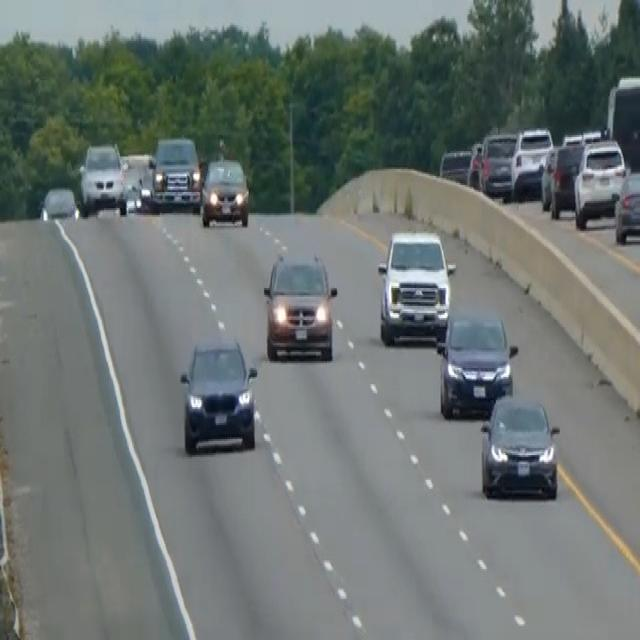bus: (605, 71, 639, 173)
car: (178, 336, 258, 453), (435, 308, 517, 418), (479, 391, 560, 500), (573, 137, 627, 227), (200, 154, 250, 228), (78, 141, 127, 215), (539, 140, 583, 217), (510, 125, 553, 199), (478, 128, 517, 199), (614, 167, 639, 244), (38, 183, 78, 222), (118, 154, 143, 212), (438, 146, 472, 185)
jeep: (376, 226, 456, 346)
minivan: (261, 247, 339, 365)
